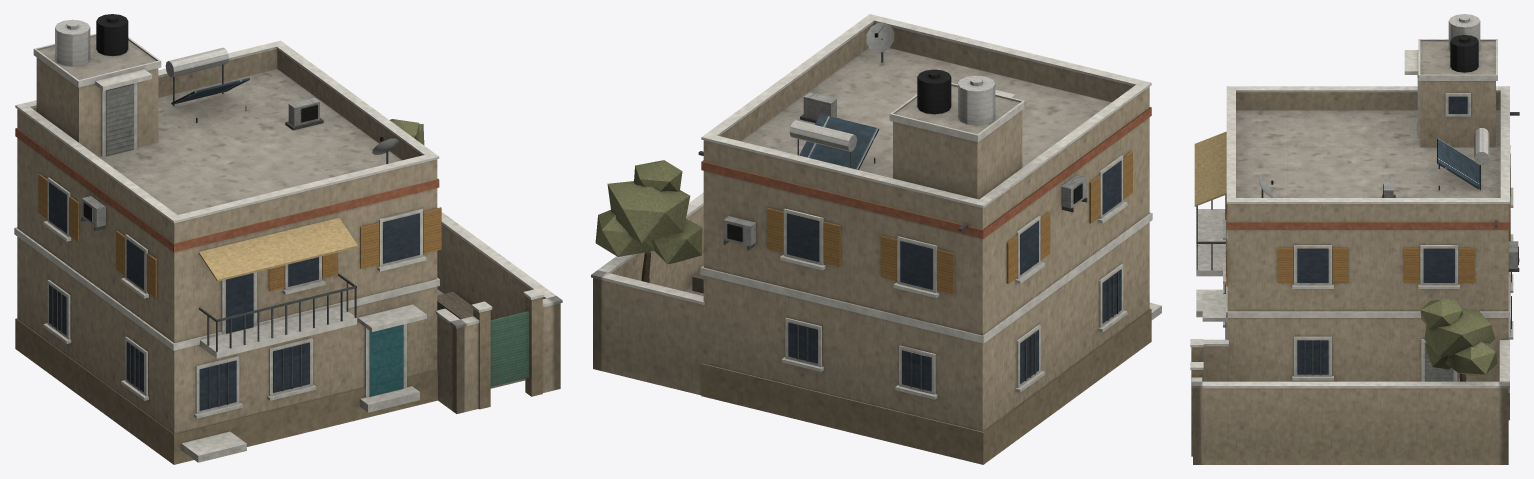
Rendered from civ_house_b.glb.
3 renders of one model, left to right at view 1: azimuth 30°, elevation 25°; view 2: azimuth 150°, elevation 25°; view 3: azimuth 270°, elevation 25°, orthographic. The views are drawn at different scales.
Visible parts, largest first — view 1: civ_house_b; view 2: civ_house_b; view 3: civ_house_b.
Boxes of the visible parts, x1,y1,x2,y2 form: civ_house_b: (14,14,562,464); civ_house_b: (591,14,1161,464); civ_house_b: (1190,14,1519,464).
Size of the model in its own units: 12.87 by 10.5 by 10.44.
2 materials, 2 textured.
